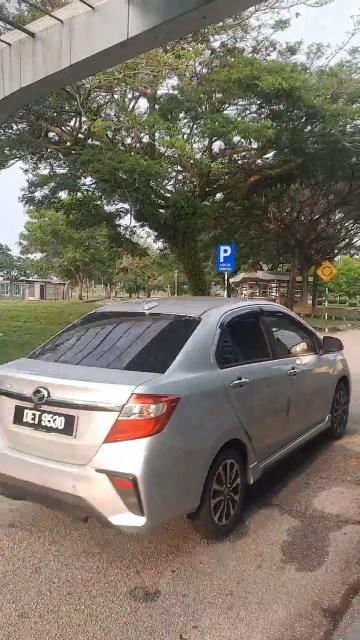car: (1, 293, 360, 551)
